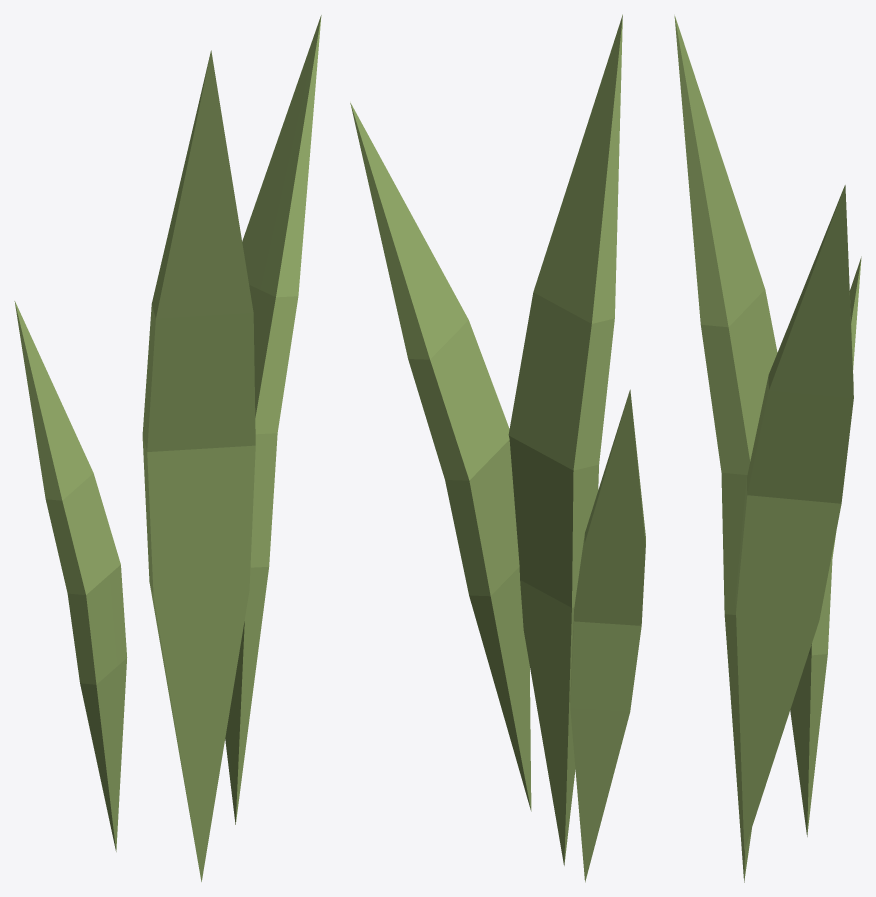
The model's file is Grass_4.fbx.
3 views of the same model, side by side, from view 1: azimuth 30°, elevation 25°; view 2: azimuth 150°, elevation 25°; view 3: azimuth 270°, elevation 25° (orthographic). The views are drawn at different scales.
Visible parts, largest first — view 1: Grass_4; view 2: Grass_4; view 3: Grass_4.
Boxes of the visible parts, x1=… form: Grass_4: x1=14, y1=15, x2=321, y2=881; Grass_4: x1=350, y1=14, x2=645, y2=882; Grass_4: x1=674, y1=15, x2=861, y2=882.
Size of the model in its own units: 13.08 by 36.2 by 7.17.
